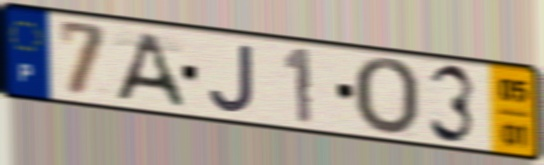1: (281, 45, 315, 128)
3: (424, 62, 487, 147)
7: (55, 17, 114, 99)
A: (111, 29, 188, 111)
J: (206, 41, 257, 116)
O: (350, 55, 423, 140)
